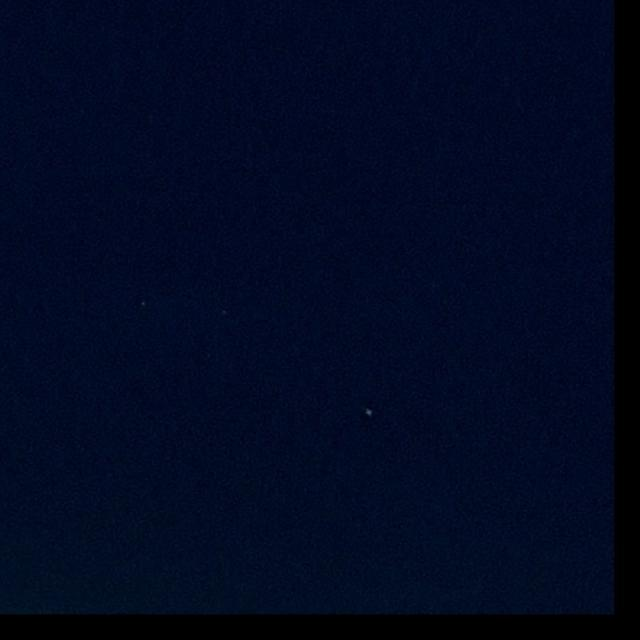ship: (366, 410, 373, 417)
